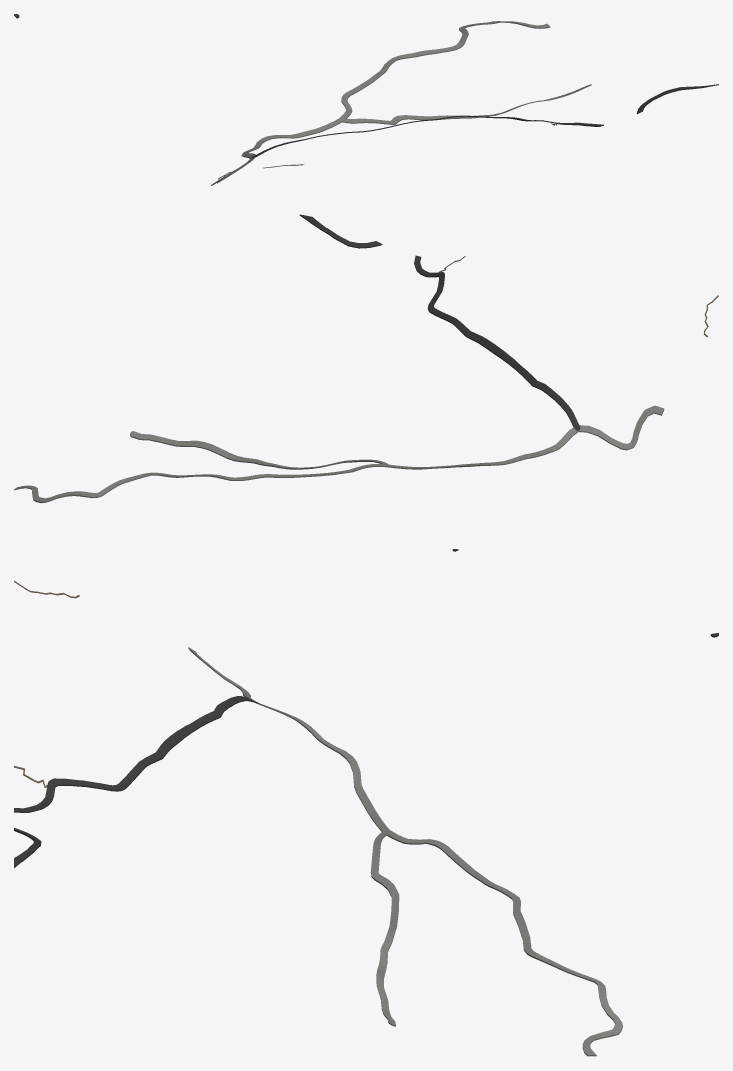
3 renders of one model, top to bottom at view 1: azimuth 30°, elevation 25°; view 2: azimuth 150°, elevation 25°; view 3: azimuth 270°, elevation 25°, orthographic. The views are drawn at different scales.
Bounding box in the file's own units: 587 × 164 × 577.
